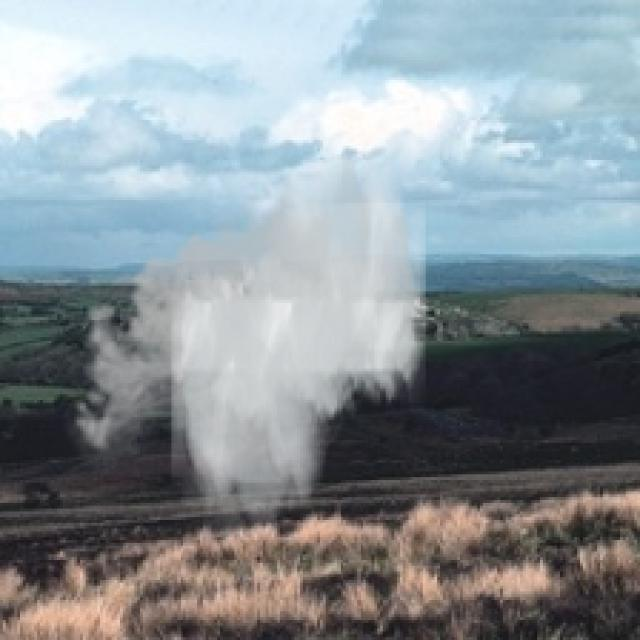smoke: (63, 131, 426, 540)
